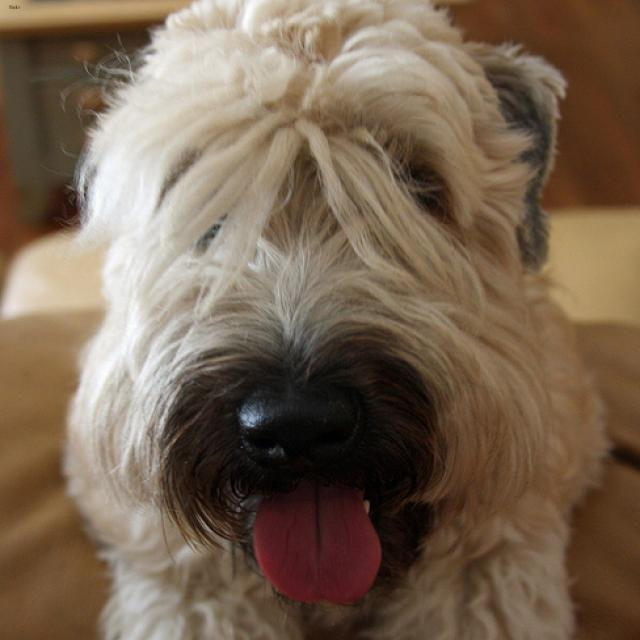dog-wheaten_terrier: (46, 1, 620, 637)
